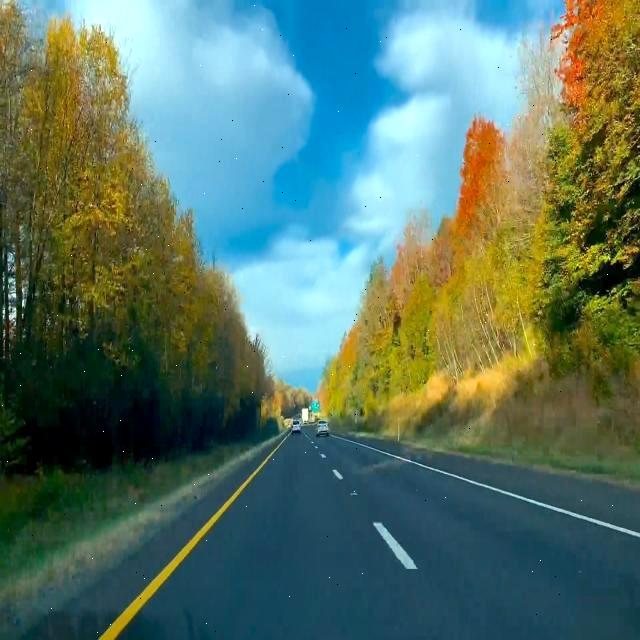lane: (99, 434, 290, 640), (371, 521, 418, 570), (332, 468, 344, 481)
road: (119, 429, 639, 639), (22, 459, 259, 639), (361, 440, 639, 534)
